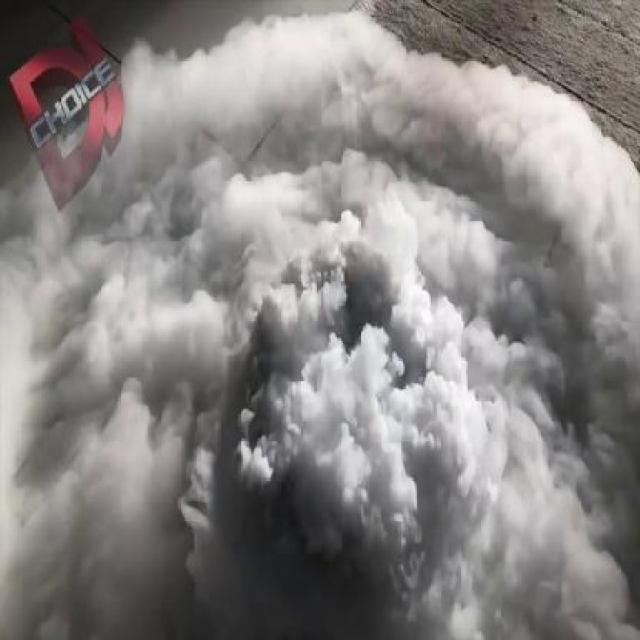smoke: (7, 72, 640, 639)
